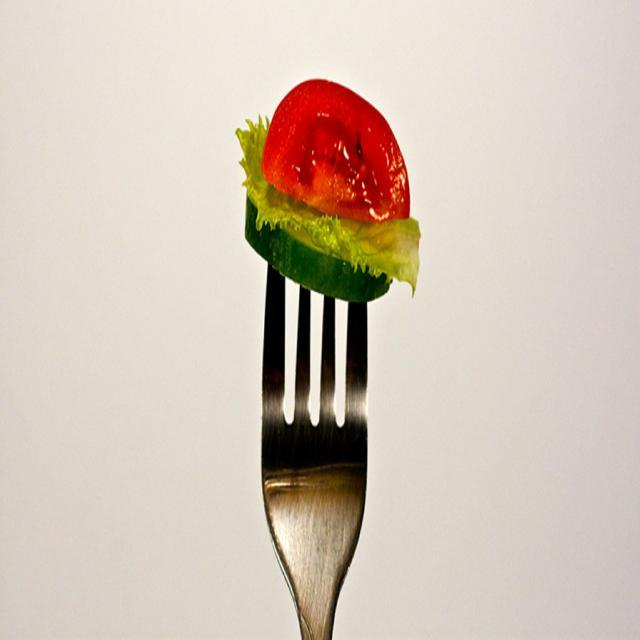Zucchini: (244, 180, 402, 304)
